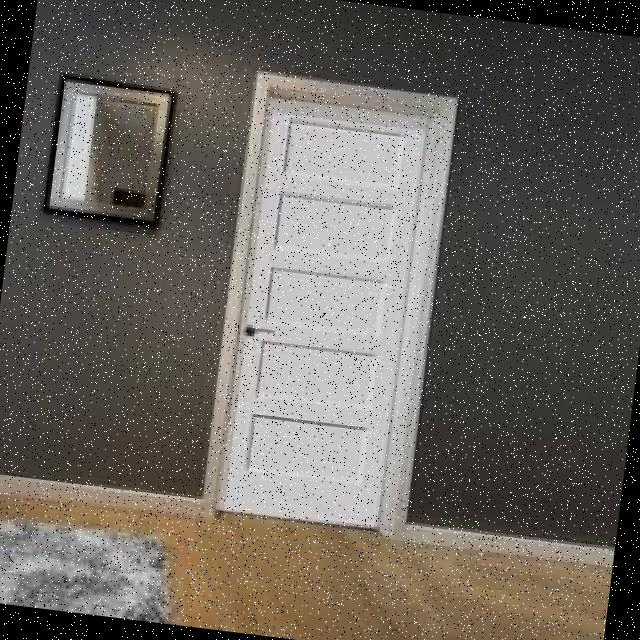Door: (212, 90, 437, 538)
